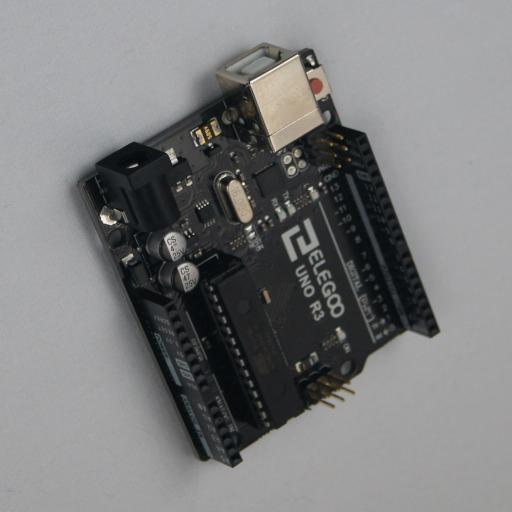Arduino Uno -Black-: (71, 46, 440, 468)
